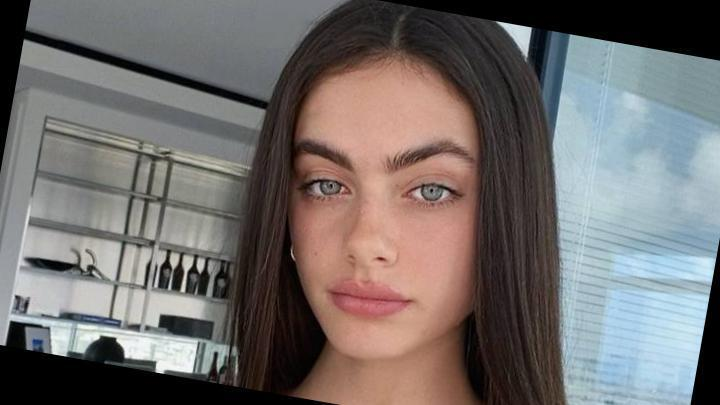Sober: (295, 85, 474, 350)
